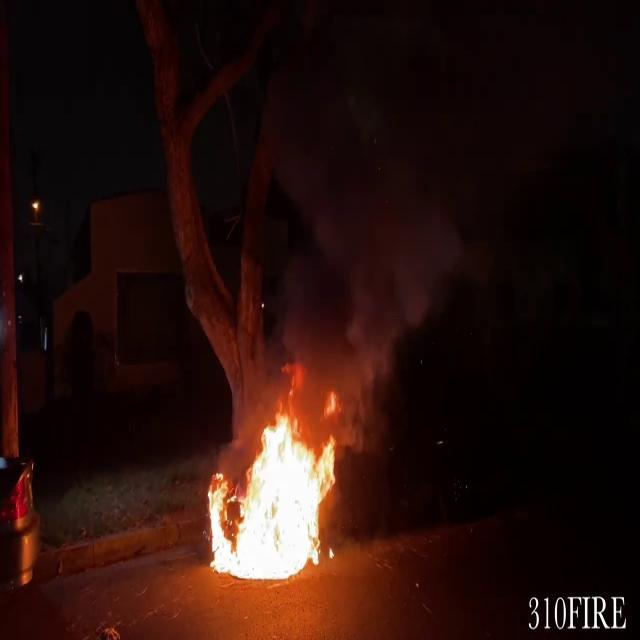Fire: (200, 397, 344, 583)
Smoke: (272, 125, 457, 397)
